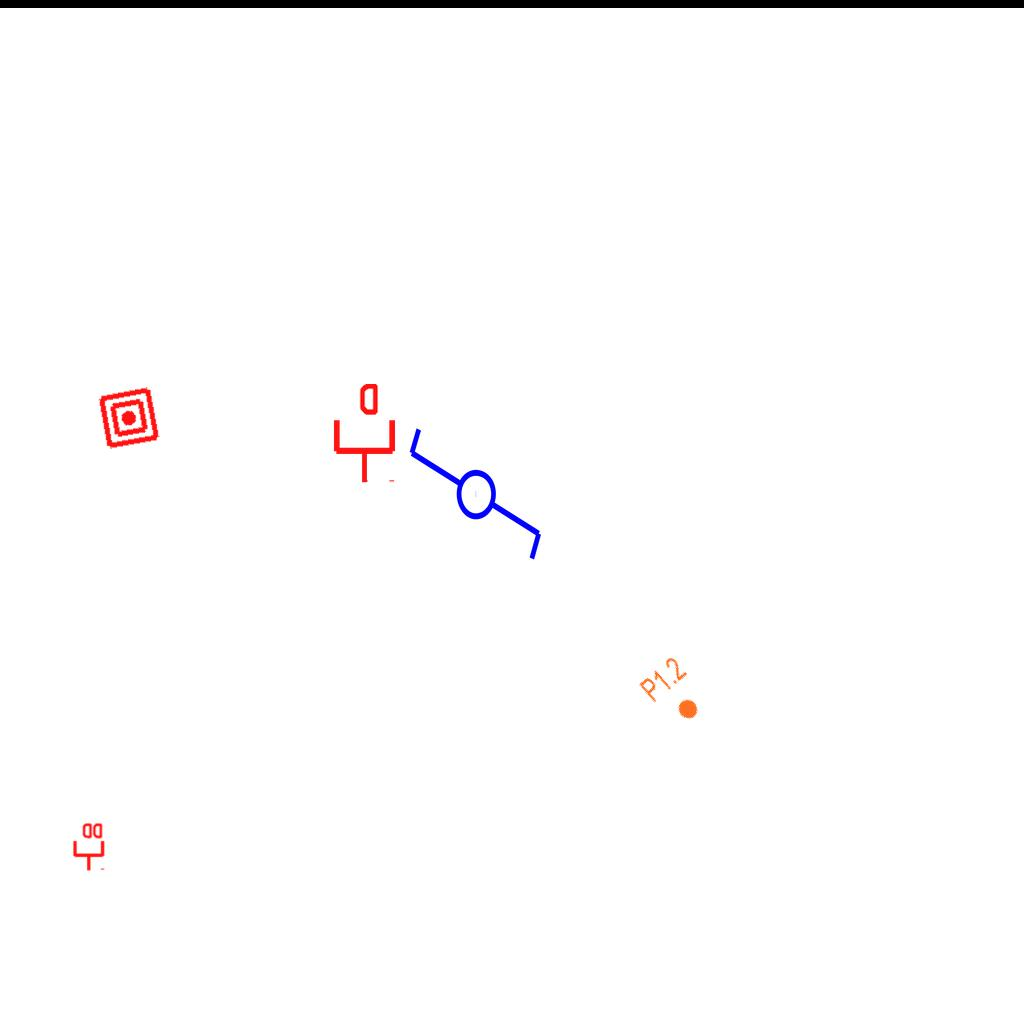Datenanschluss_einfach: (330, 384, 399, 484)
Datenanschluss_zweifach: (71, 821, 105, 872)
Downlight_LED_Einbauleuchten_Flur: (636, 653, 714, 733)
NAM-Nichtautomatischer_Melder: (96, 385, 162, 451)
Wechselschalter: (402, 424, 546, 581)
